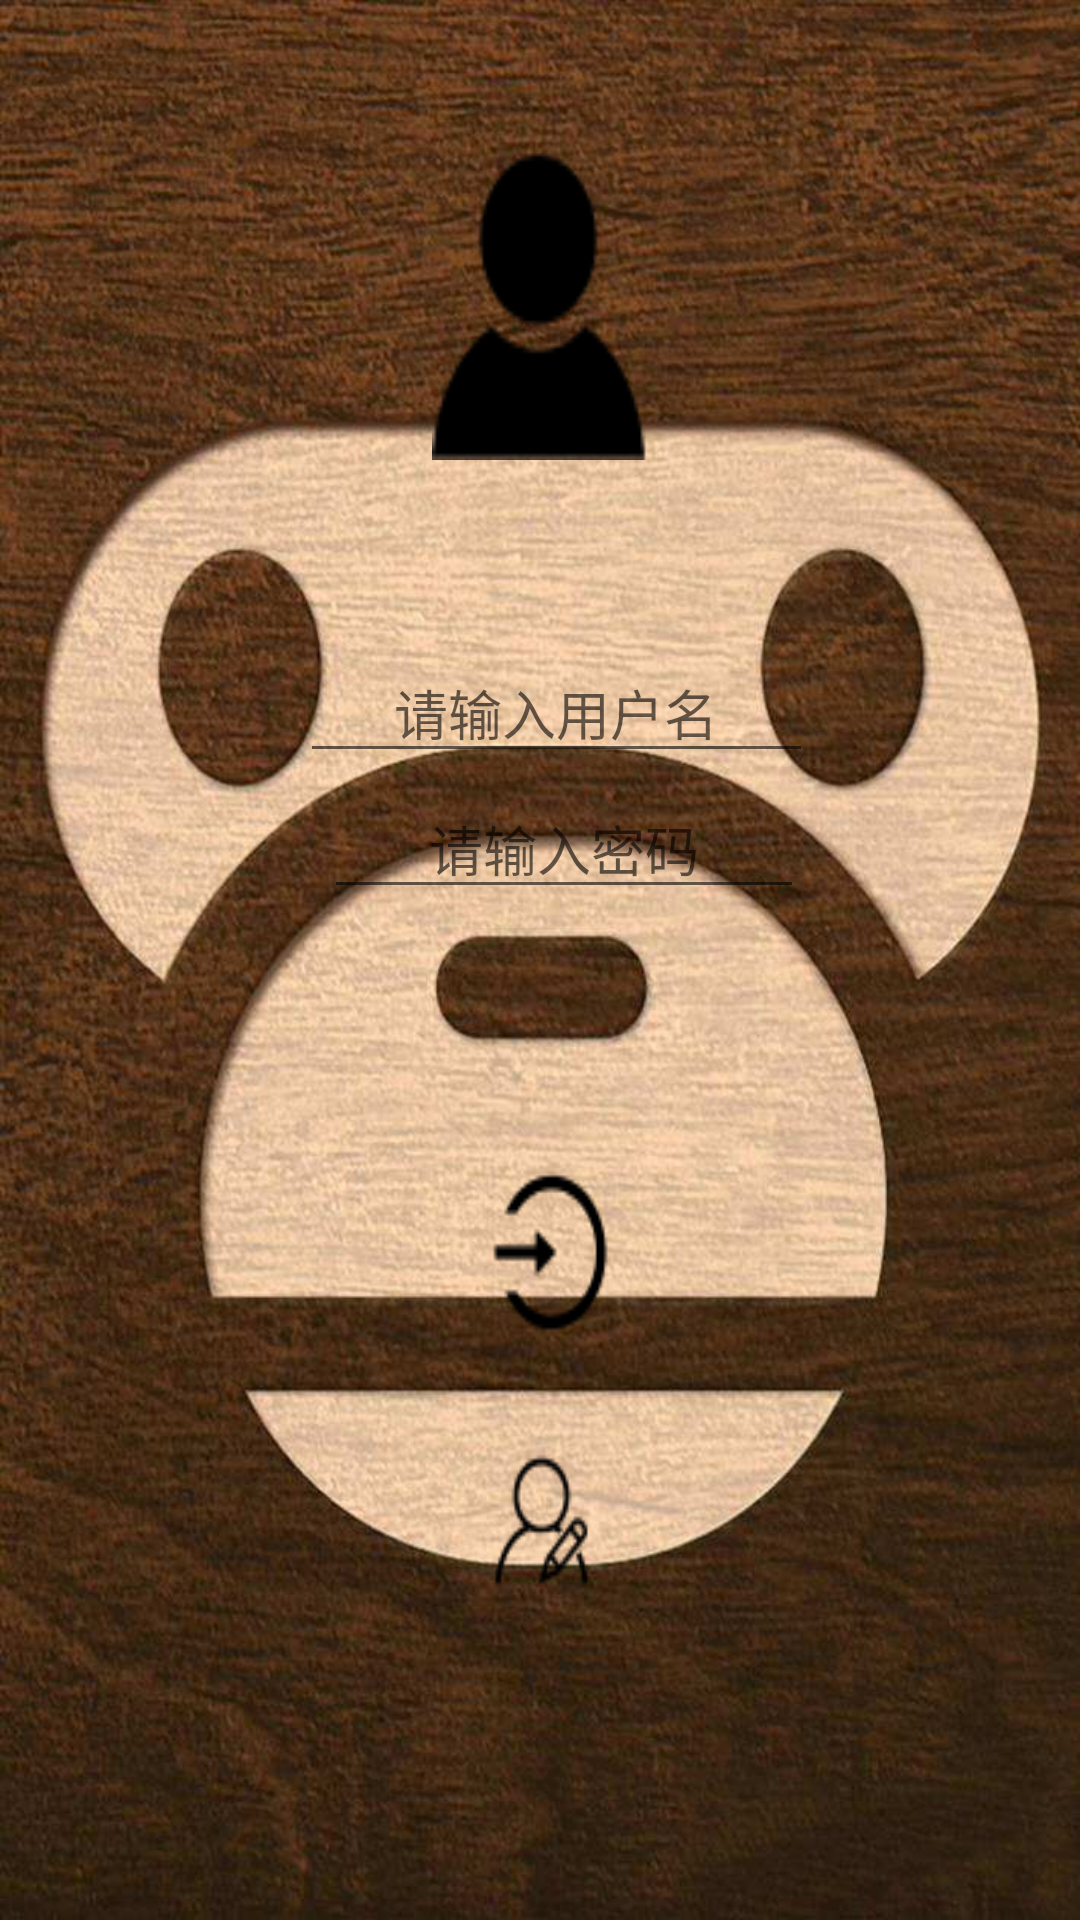

Icons on this 1080x1920 Android screen, each with the point to tap as point (x, y):
relogin: point (550, 1254)
reregister: point (541, 1521)
touxiang: point (540, 305)
